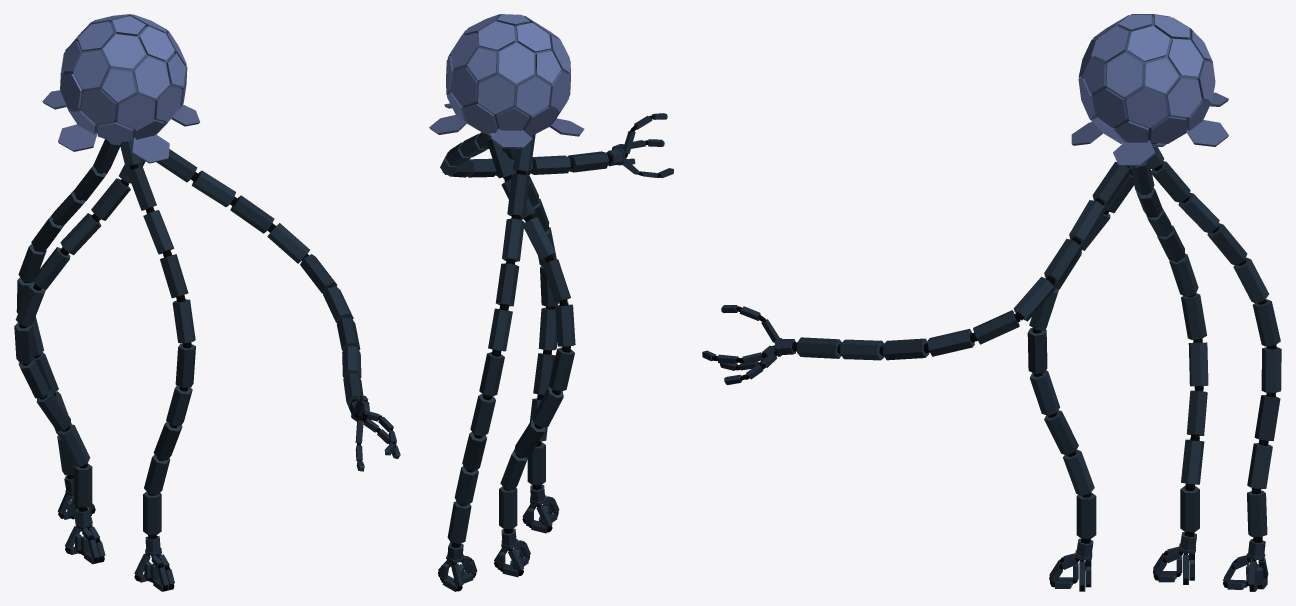
Rendered from ai_worker.fbx.
3 renders of one model, left to right at view 1: azimuth 30°, elevation 25°; view 2: azimuth 150°, elevation 25°; view 3: azimuth 270°, elevation 25°, orthographic. The views are drawn at different scales.
Parts seen in each view (by area): view 1: Feet_Door.001; view 2: Feet_Door.001; view 3: Feet_Door.001.
Boxes of the visible parts, box(x1,y1,x2,y2) form: Feet_Door.001: box(14, 14, 400, 591); Feet_Door.001: box(429, 14, 673, 591); Feet_Door.001: box(702, 14, 1281, 591).
Bounding box in the file's own units: 1.08 × 2.35 × 2.56.
